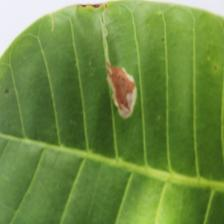leaf miner: (0, 0, 223, 224), (105, 60, 137, 120)
